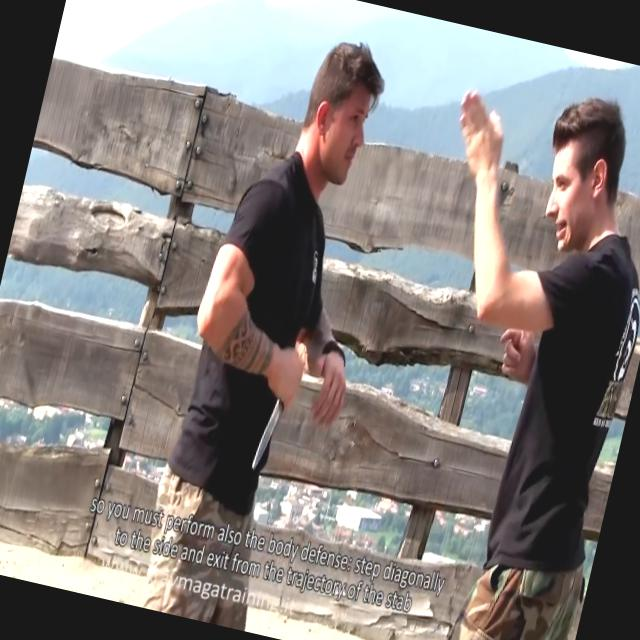knife: (244, 341, 307, 479)
